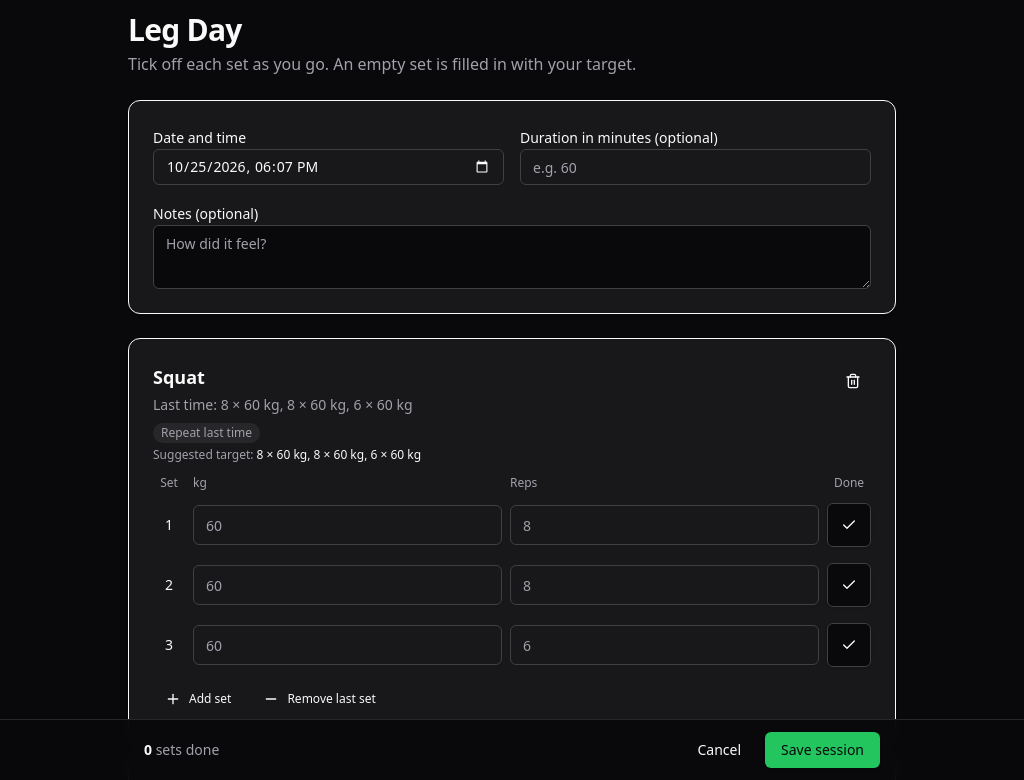
Test: LogSessionPage › shows last time's sets and fills a ticked-off set from them
This screenshot has width=1024, height=780.
Expected: the text "Last time: 8 × 60 kg, 8 × 60 kg, 6 × 60 kg" is shown, [153, 395, 421, 415]
Click the button named "Complete set 1 of Squat": {"x": 849, "y": 525} [827, 503, 871, 547]
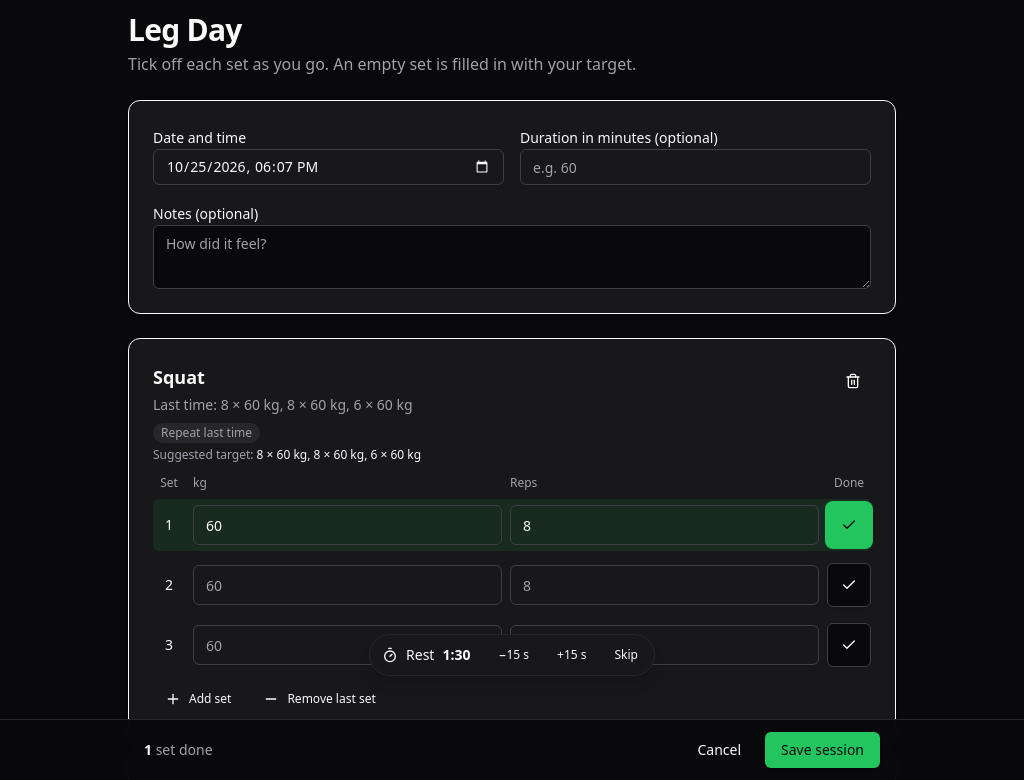
Expected: the field named "Reps for set 1 of Squat" holds "8", [510, 505, 819, 545]
Expected: the field named "Weight in kg for set 1 of Squat" holds "60", [193, 505, 502, 545]
